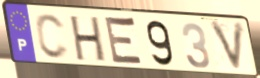3: (181, 21, 212, 69)
9: (145, 19, 175, 67)
C: (34, 12, 71, 61)
E: (103, 14, 146, 69)
H: (69, 15, 107, 65)
V: (207, 20, 247, 75)
